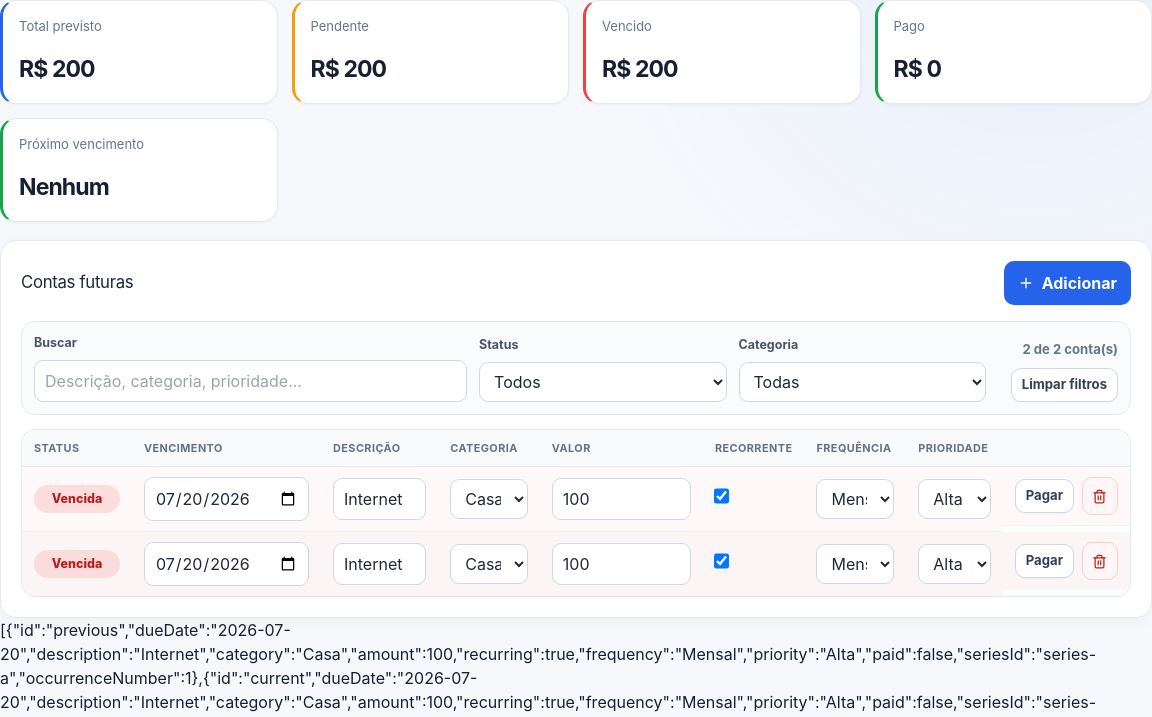
Test case: safe recurring future bill deletion › blocks ranged deletion when a previous occurrence could regenerate the series
The image size is (1152, 717).
What coordinates should you click on to do the following:
click the 2nd button named "Excluir conta futura Internet"
I would click on:
 (1100, 561)
Its box is x1=1082 y1=542 x2=1118 y2=580.
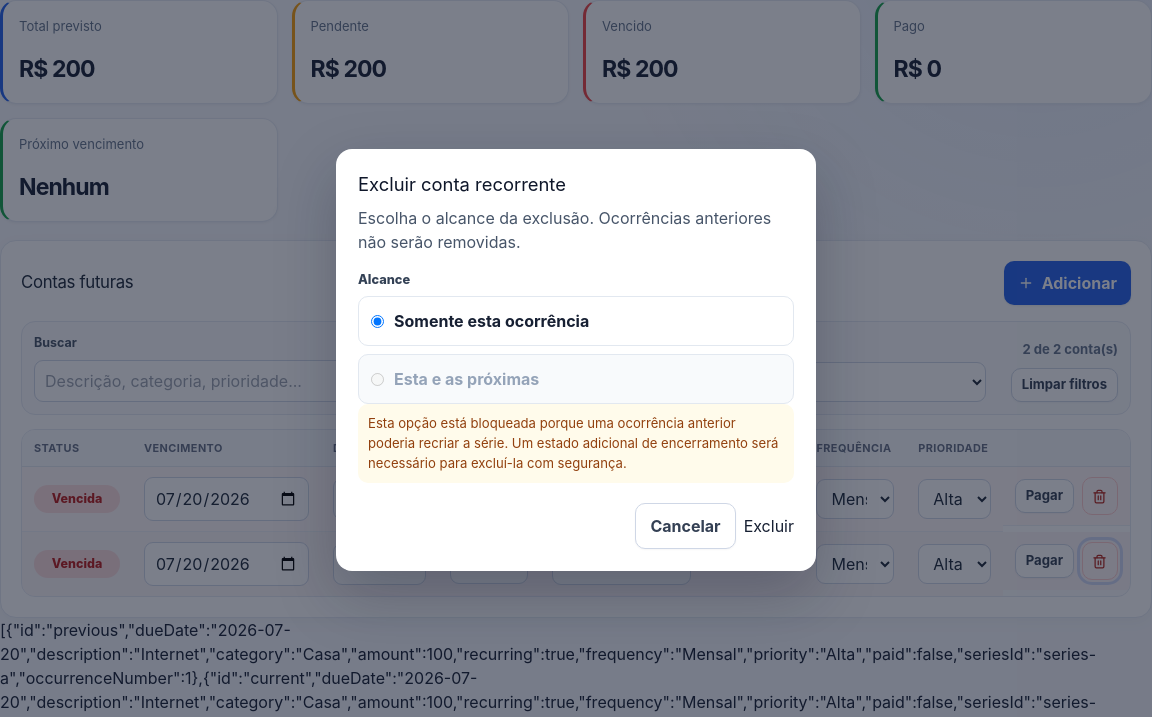
Now the radio button labelled "Esta e as próximas" is disabled, box x1=371 y1=373 x2=384 y2=386
Now the message shows "ocorrência anterior poderia recriar a série", box x1=368 y1=415 x2=778 y2=471
